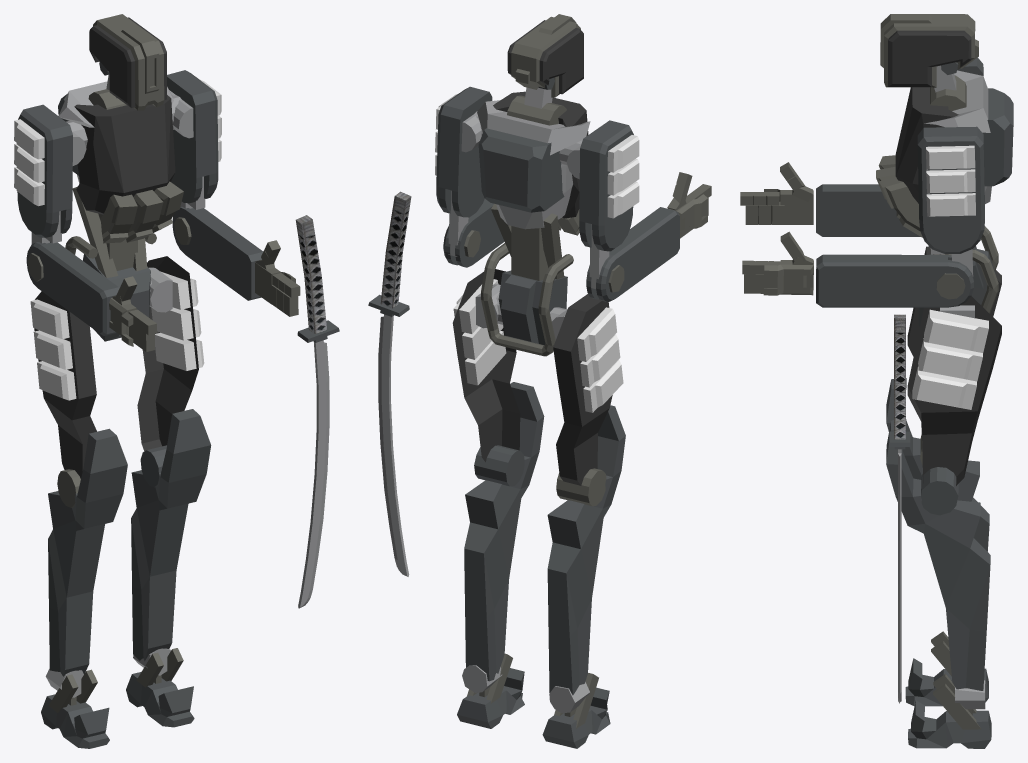
File: low-poly robotRELISE.fbx
3 views of the same model, side by side, from view 1: azimuth 30°, elevation 25°; view 2: azimuth 150°, elevation 25°; view 3: azimuth 270°, elevation 25° (orthographic). The views are drawn at different scales.
Parts seen in each view (by area): view 1: Куб.047, Куб.002, Куб.017, Cube.003, Куб.049, Куб.014, Куб.021, Куб.001, Куб.056, Куб.050, Куб.053, Куб.018 (+25 smaller); view 2: Куб.047, Куб.002, Куб.001, Cube.003, Куб.016, Куб.021, Куб.049, Куб.014, Куб.056, telo, Куб.009, Куб.035 (+24 smaller); view 3: Куб.047, Куб.050, Куб.021, Куб.049, Куб.056, Куб.018, Cube.003, Куб.017, Куб.043, Куб.016, Куб.053, Куб.061 (+19 smaller).
Boxes of the visible parts, x1,y1,x2,y2 form: Куб.047: (131,409,211,661); Куб.002: (48,428,127,676); Куб.017: (74,95,175,214); Cube.003: (295,215,339,608); Куб.049: (167,70,218,203); Куб.014: (17,104,72,237); Куб.021: (137,256,198,451); Куб.001: (34,291,96,478); Куб.056: (26,242,119,335); Куб.050: (172,207,263,300); Куб.053: (93,14,164,110); Куб.018: (89,17,166,108); Куб.047: (464,382,544,681); Куб.002: (547,405,625,695); Куб.001: (553,294,612,485); Cube.003: (368,191,411,576); Куб.016: (478,128,564,212); Куб.021: (452,269,520,462); Куб.049: (436,86,492,217); Куб.014: (579,120,633,251); Куб.056: (586,207,679,302); telo: (477,100,590,229); Куб.009: (498,270,567,345); Куб.035: (481,243,573,356); Куб.047: (886,419,990,690); Куб.050: (816,254,973,307); Куб.021: (907,296,1001,485); Куб.049: (917,126,984,254); Куб.056: (816,184,920,236); Куб.018: (888,30,971,86); Cube.003: (889,314,910,703); Куб.017: (895,87,958,203); Куб.043: (908,700,991,748); Куб.016: (982,88,1013,186); Куб.053: (880,14,978,87); Куб.061: (924,309,988,352).
Bounding box in the file's own units: 512 × 1198 × 422.
